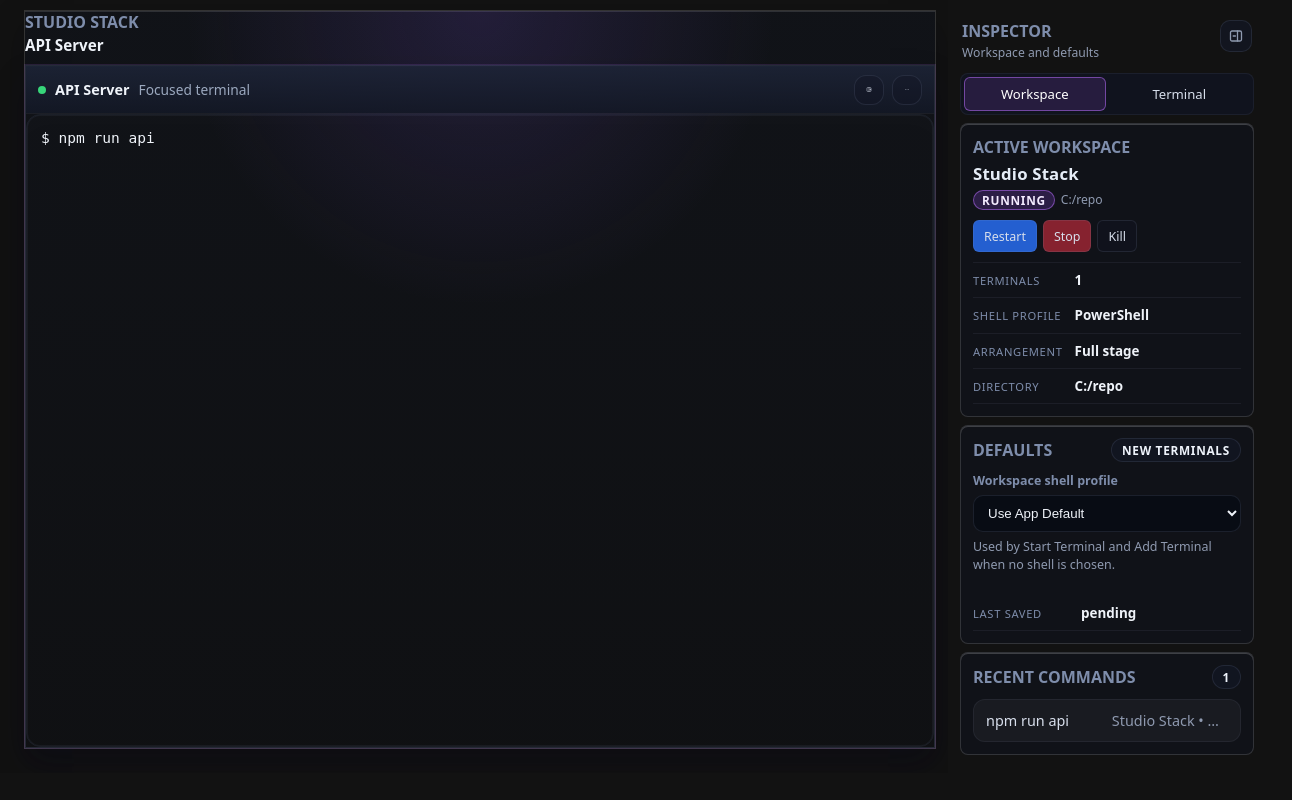
Test: WorkspaceAreaComponent › renames a terminal from the focus header by double-click
Double-click the button with class "terminal-title-button" at (92, 90), box 55,80 -> 130,99
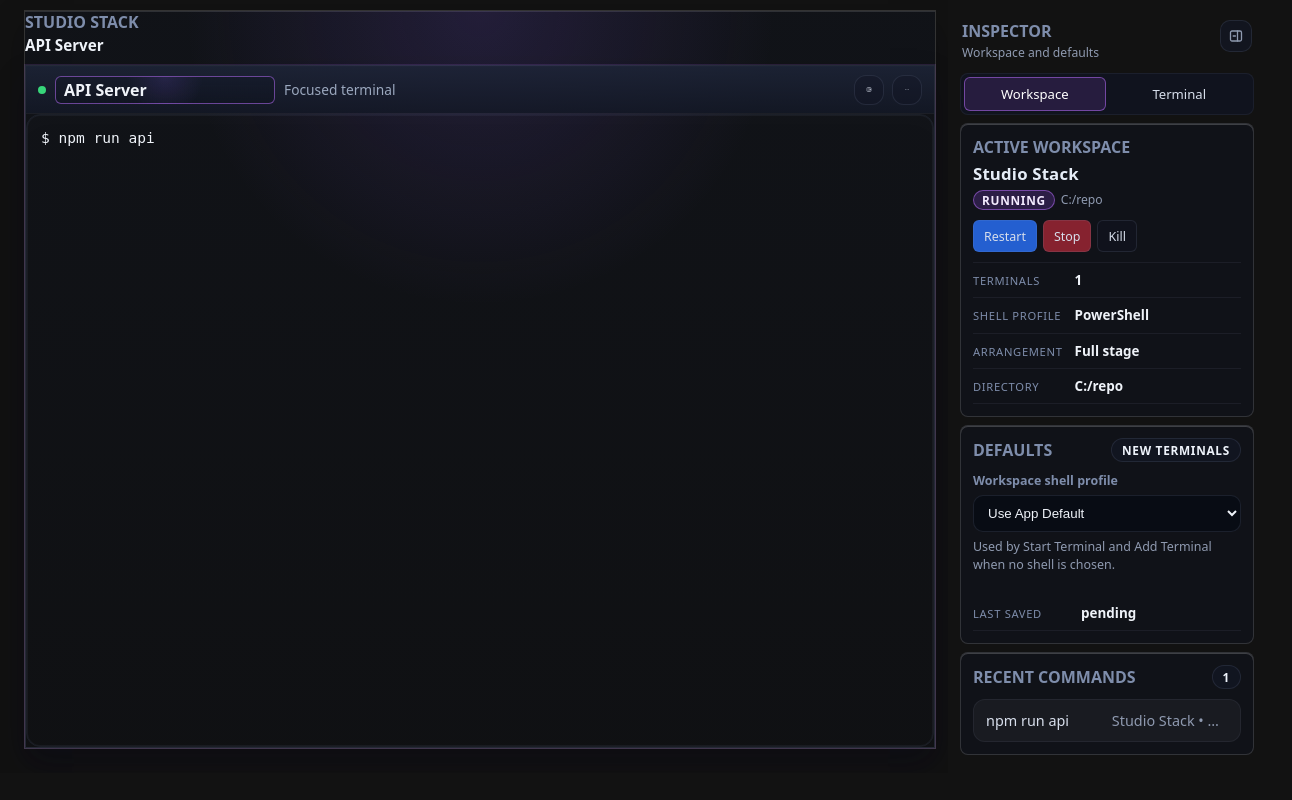
Expected: the field with class "terminal-rename-input" is shown, 55,76 -> 275,104
